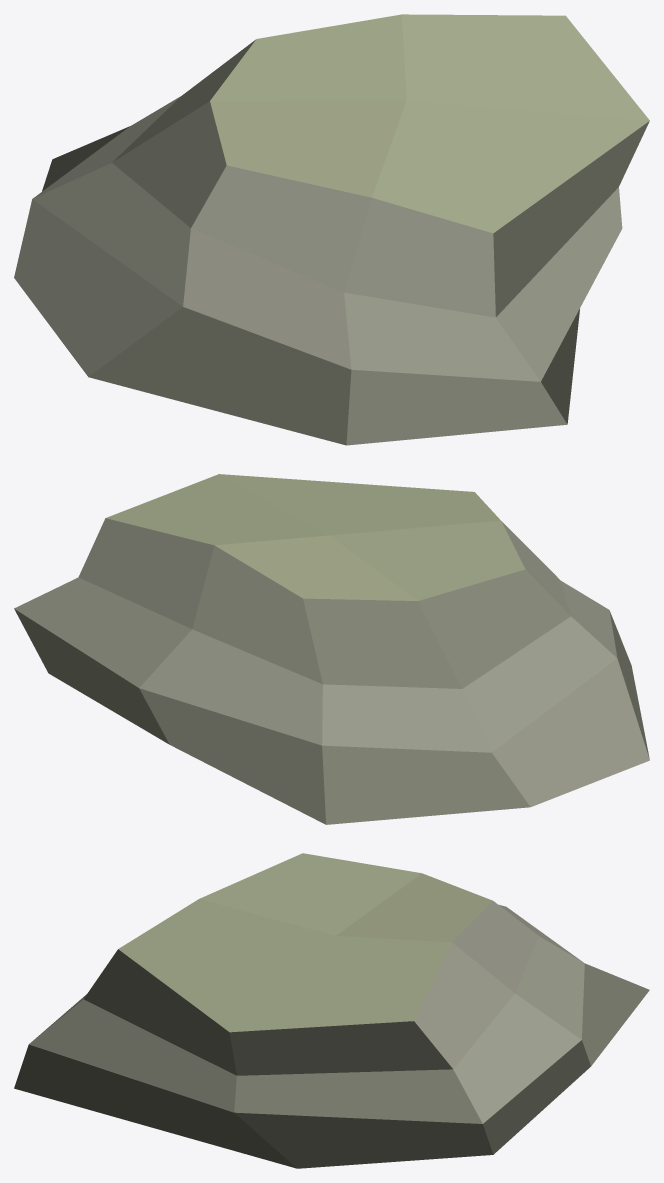
The model's file is E_Rock09.fbx.
The picture shows the model from 3 angles, top to bottom: view 1: azimuth 30°, elevation 25°; view 2: azimuth 150°, elevation 25°; view 3: azimuth 270°, elevation 25°; orthographic projection. The views are drawn at different scales.
Parts seen in each view (by area): view 1: Rock09; view 2: Rock09; view 3: Rock09.
Part boxes in pixels (x1=…): Rock09: x1=14, y1=14, x2=649, y2=445; Rock09: x1=14, y1=474, x2=649, y2=824; Rock09: x1=14, y1=853, x2=649, y2=1168.
Bounding box in the file's own units: 507 × 176 × 528.
